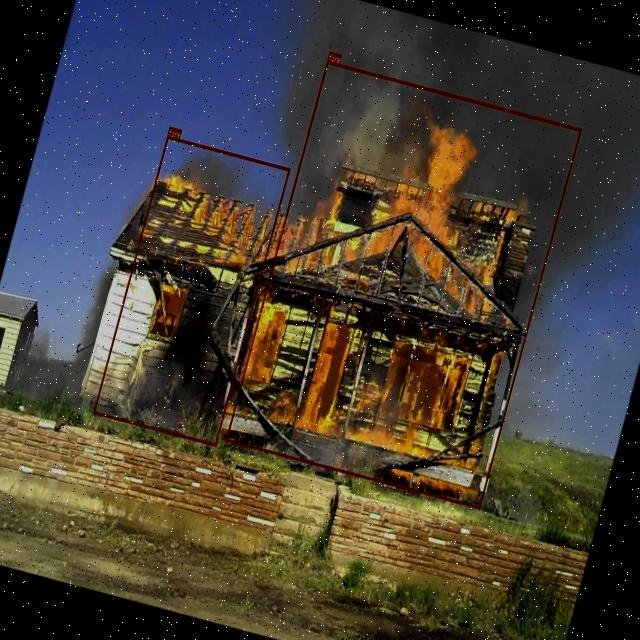fire: (224, 60, 582, 509), (92, 135, 289, 446)
